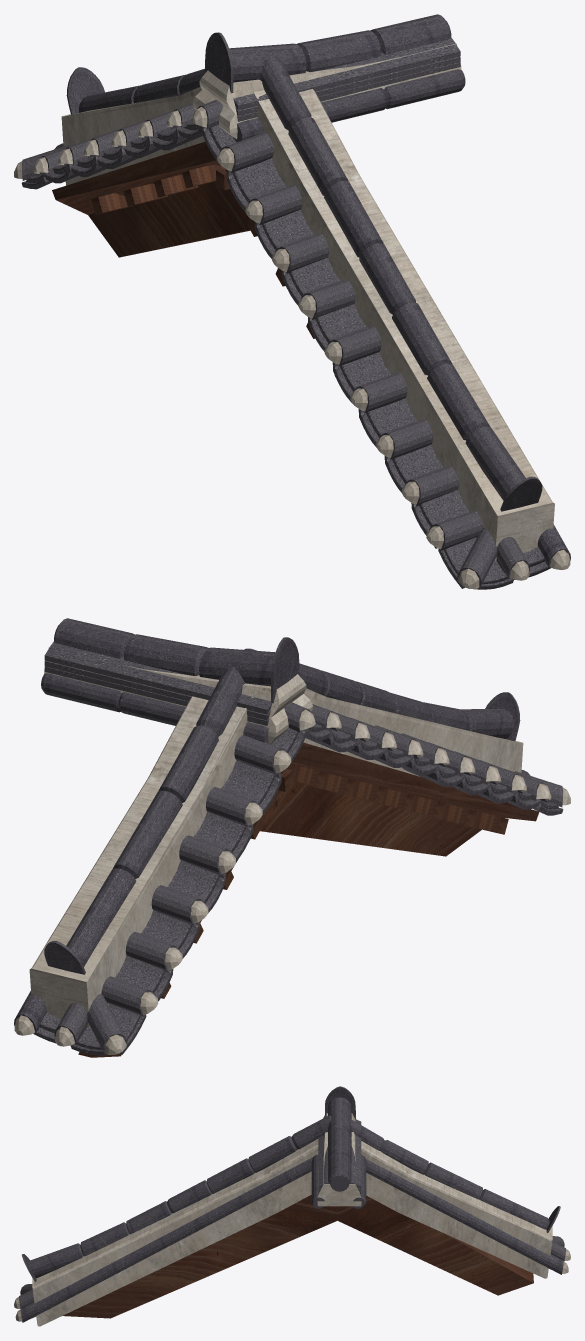
Rendered from SM_R_RoofOuter_21.fbx.
3 views of the same model, one above another, from view 1: azimuth 30°, elevation 25°; view 2: azimuth 150°, elevation 25°; view 3: azimuth 270°, elevation 25° (orthographic). The views are drawn at different scales.
Visible parts, largest first — view 1: SM_R_RoofOuter_21; view 2: SM_R_RoofOuter_21; view 3: SM_R_RoofOuter_21.
Boxes of the visible parts, x1=… form: SM_R_RoofOuter_21: x1=14, y1=14, x2=570, y2=589; SM_R_RoofOuter_21: x1=14, y1=618, x2=570, y2=1057; SM_R_RoofOuter_21: x1=14, y1=1086, x2=570, y2=1326.
Size of the model in its own units: 234 by 751 by 326.
Materials: 4 (4 with a texture image).
